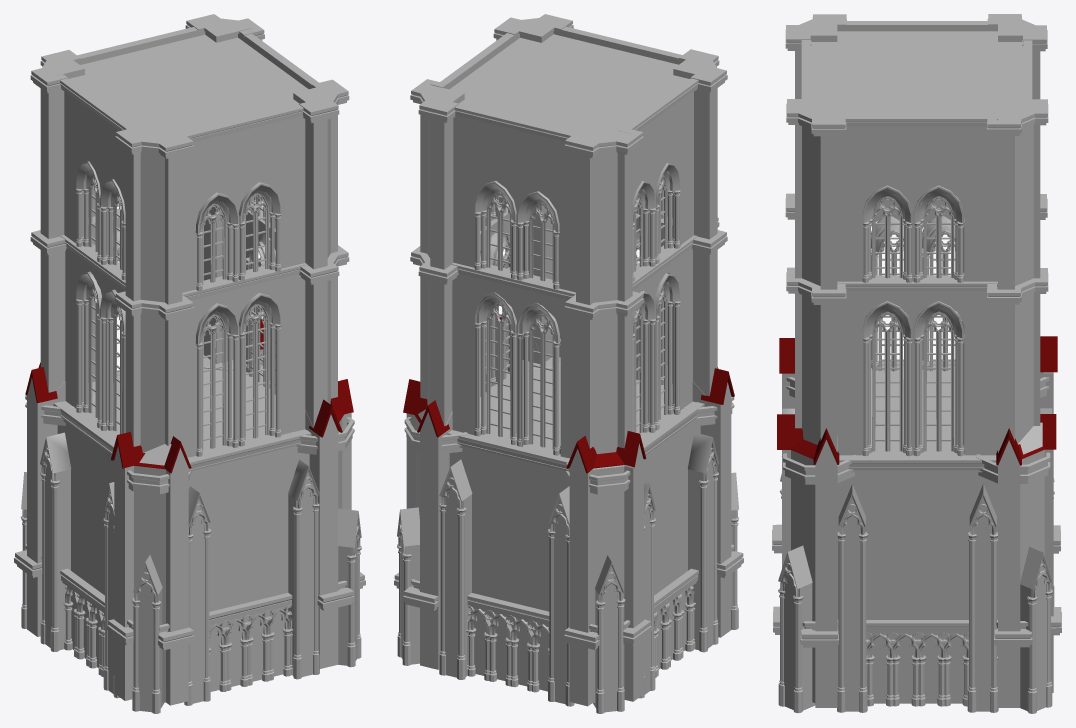
The model's file is tower_003.glb.
3 renders of one model, left to right at view 1: azimuth 30°, elevation 25°; view 2: azimuth 150°, elevation 25°; view 3: azimuth 270°, elevation 25°, orthographic. The views are drawn at different scales.
Parts seen in each view (by area): view 1: Tower_003; view 2: Tower_003; view 3: Tower_003.
Part boxes in pixels (left/top/right/bottom): Tower_003: left=14, top=14, right=365, bottom=713; Tower_003: left=394, top=14, right=743, bottom=713; Tower_003: left=772, top=14, right=1061, bottom=713.
Size of the model in its own units: 3.01 by 6.73 by 3.01.
